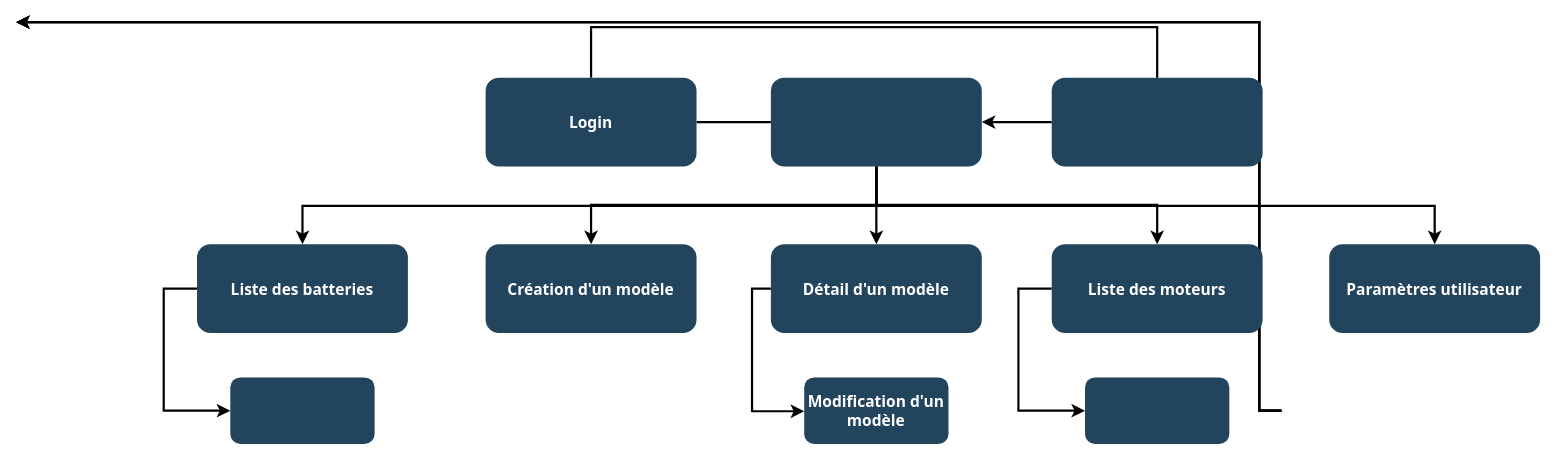
Image size: 1558x462. Some labels were removed from this diagram. The centre of each missing label's shape, as x and y in pixels:
Création d'un moteur: the point at 1156,410
Création d'une batterie: the point at 302,410
Home: the point at 875,121
Register: the point at 1156,121
